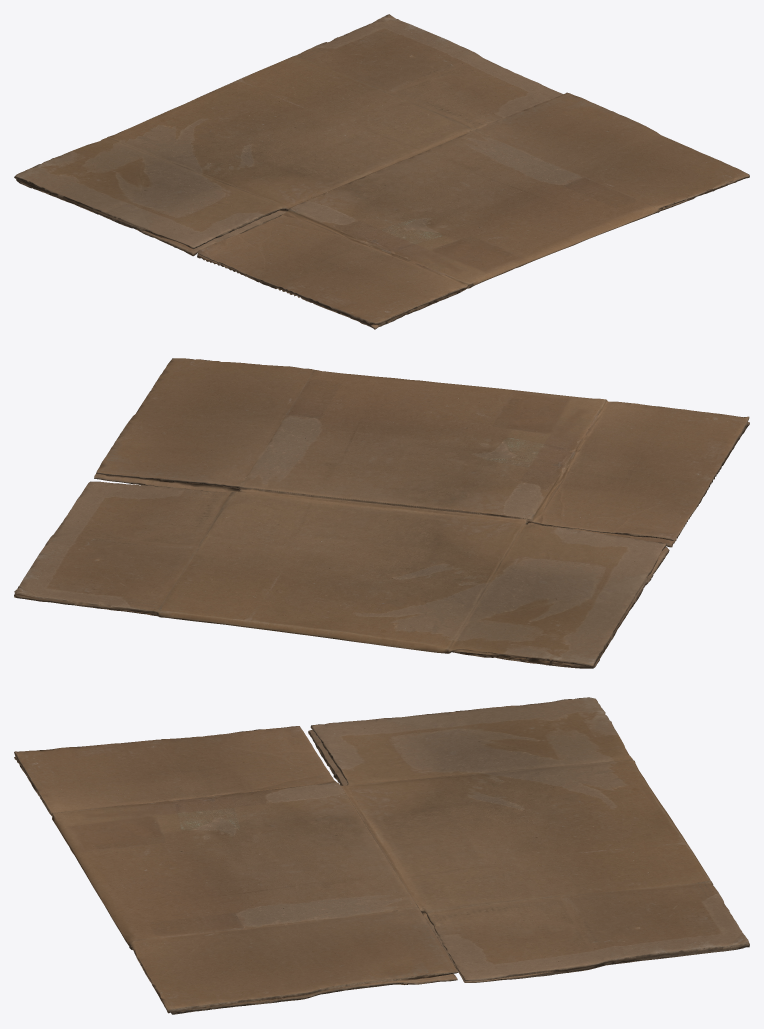
File: Carton2.fbx
The picture shows the model from 3 angles, top to bottom: view 1: azimuth 30°, elevation 25°; view 2: azimuth 150°, elevation 25°; view 3: azimuth 270°, elevation 25°; orthographic projection. The views are drawn at different scales.
Visible parts, largest first — view 1: Carton2; view 2: Carton2; view 3: Carton2.
Part boxes in pixels (bbox=[...]): Carton2: bbox=[14, 14, 749, 329]; Carton2: bbox=[14, 358, 749, 668]; Carton2: bbox=[14, 697, 749, 1014].
Size of the model in its own units: 174 by 4.51 by 173.
